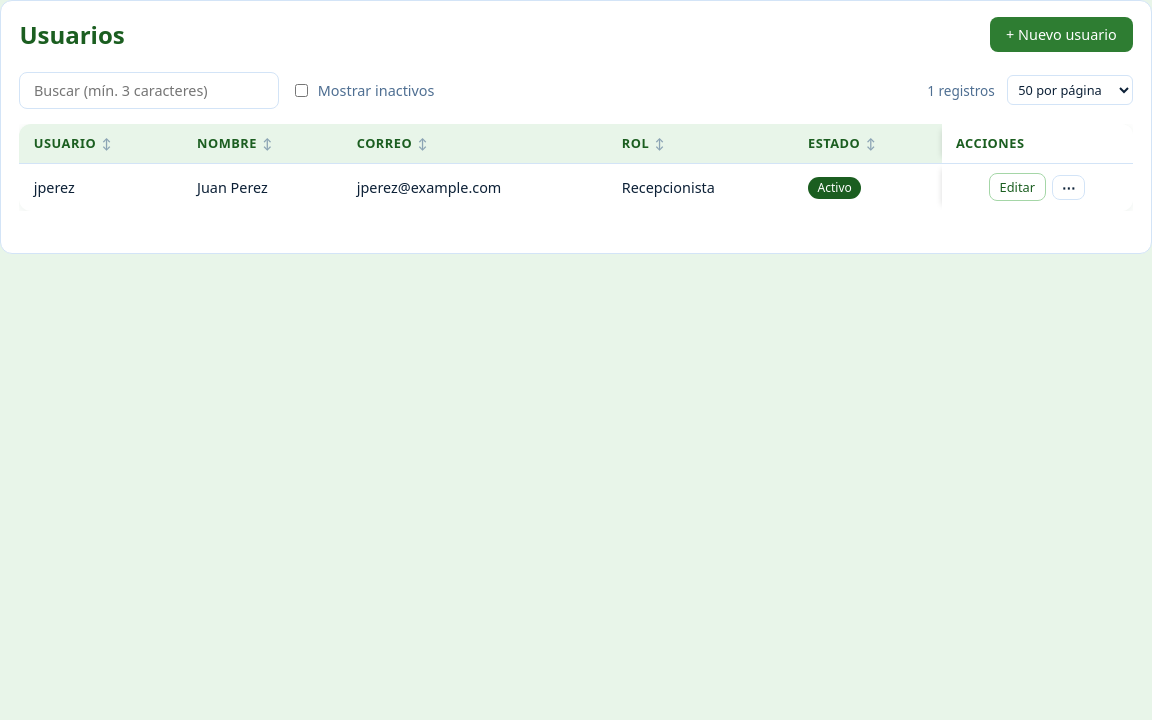
Test: Users › shows the doctor-profile fieldset when the role is set to Doctor/a
Check: the text "jperez" is shown, box [19, 163, 183, 211]
Click the button "+ Nuevo usuario" at (1061, 34), box [990, 17, 1133, 52]
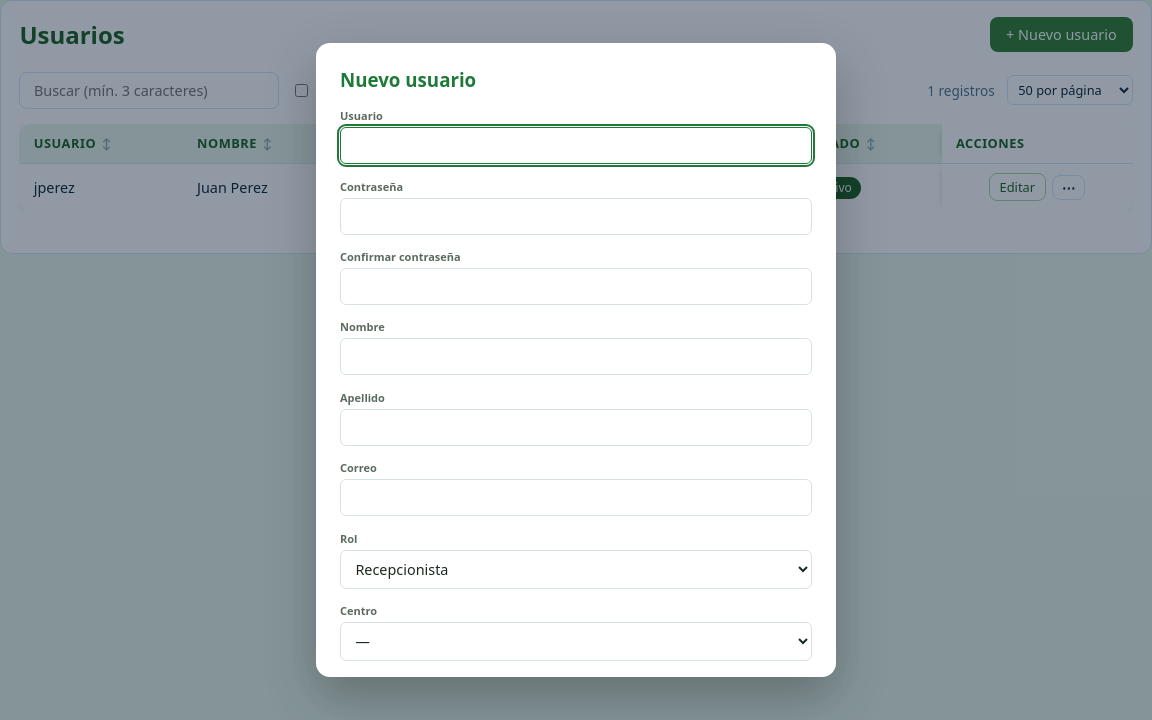
Select "Doctor/a" in the dropdown labelled "Rol" at (576, 569), box [340, 550, 812, 588]
(page scrolled)
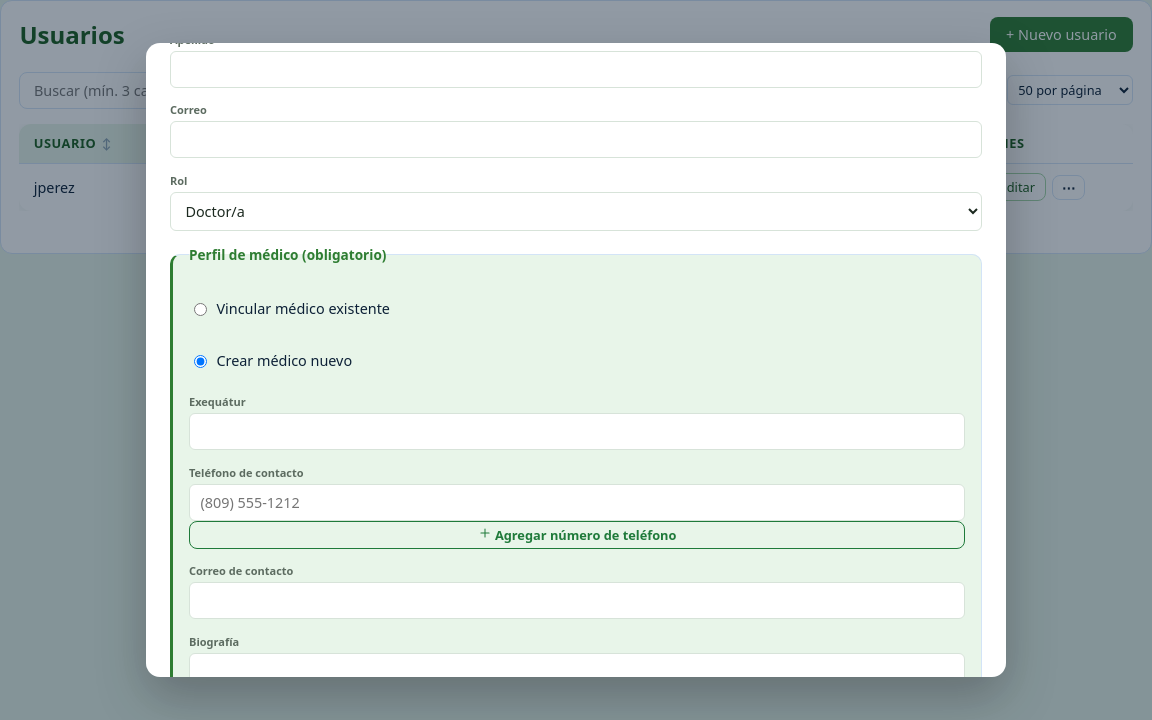
Check: the text "Perfil de médico (obligatorio)" is shown, box [189, 245, 386, 264]
Check: the text "Vincular médico existente" is shown, box [194, 299, 390, 318]
Check: the text "Crear médico nuevo" is shown, box [194, 351, 352, 370]
